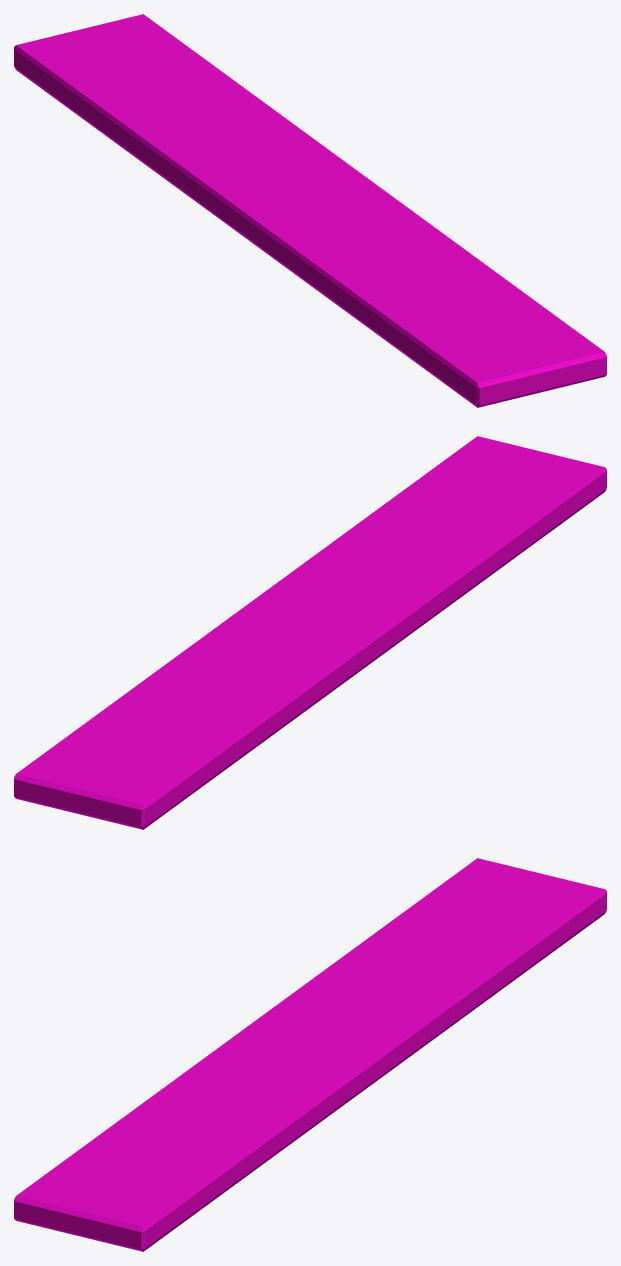
File: Shelf_01.fbx
3 views of the same model, one above another, from view 1: azimuth 30°, elevation 25°; view 2: azimuth 150°, elevation 25°; view 3: azimuth 330°, elevation 25° (orthographic).
Visible parts, largest first — view 1: Shelf_01; view 2: Shelf_01; view 3: Shelf_01.
Part boxes in pixels (<box>): Shelf_01: <box>14,14,606,407</box>; Shelf_01: <box>14,436,606,829</box>; Shelf_01: <box>14,858,606,1251</box>.
Size of the model in its own units: 24.86 by 4.52 by 153.
